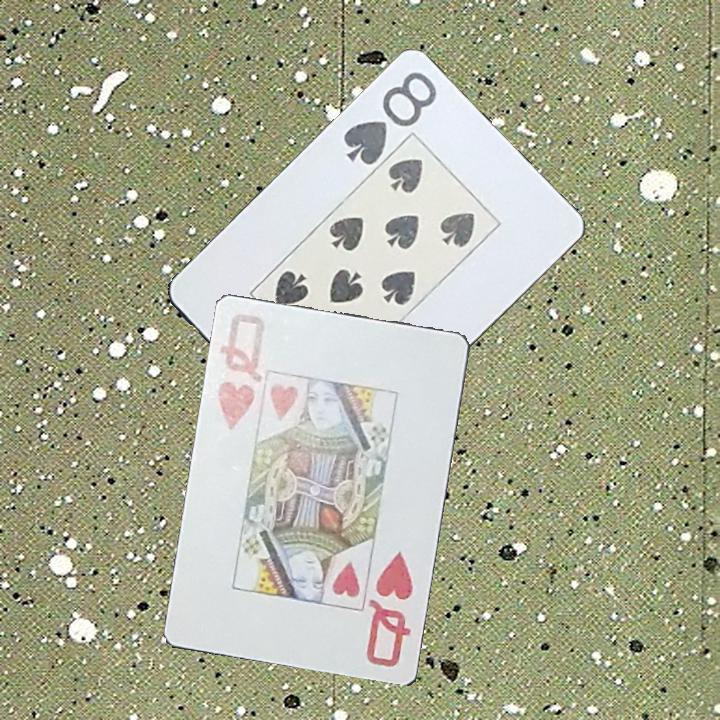8s: (340, 68, 440, 169)
Qh: (362, 547, 417, 671), (214, 310, 268, 433)
